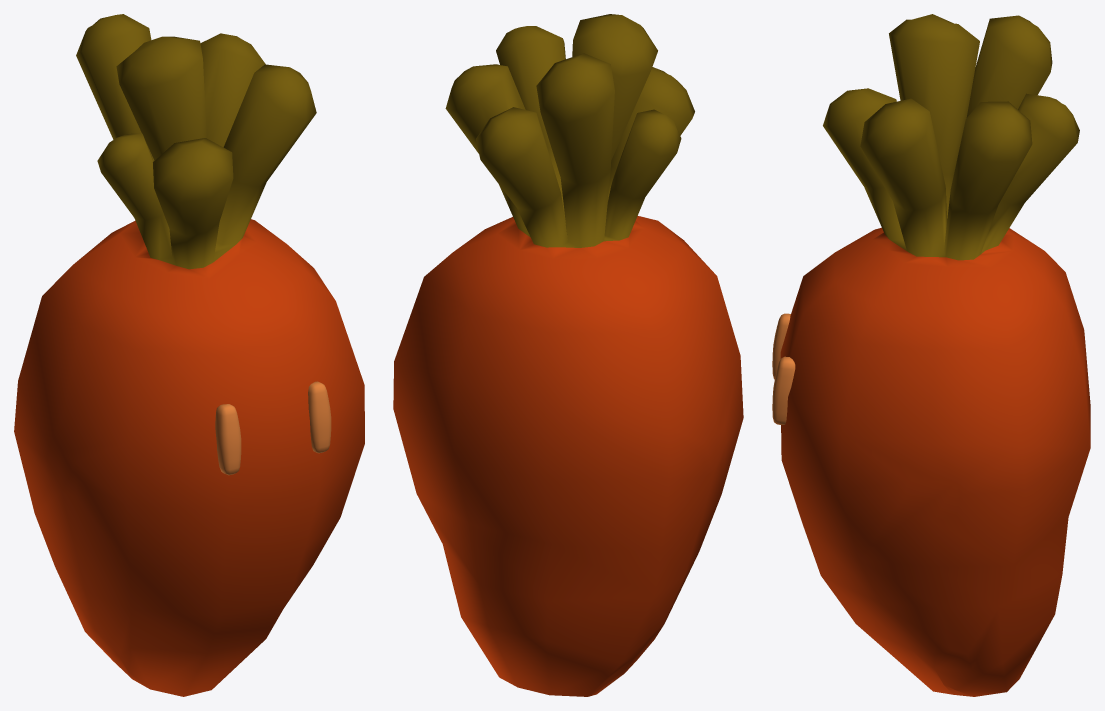
File: Carrot.fbx
3 views of the same model, side by side, from view 1: azimuth 30°, elevation 25°; view 2: azimuth 150°, elevation 25°; view 3: azimuth 270°, elevation 25° (orthographic).
Parts seen in each view (by area): view 1: Carrot; view 2: Carrot; view 3: Carrot.
Boxes of the visible parts, box(x1,y1,x2,y2) form: Carrot: box(14, 14, 364, 696); Carrot: box(393, 14, 743, 696); Carrot: box(772, 14, 1090, 696).
Size of the model in its own units: 134 by 305 by 135.
